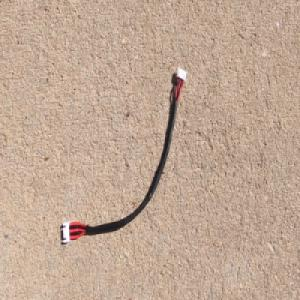Wire: (61, 65, 187, 247)
